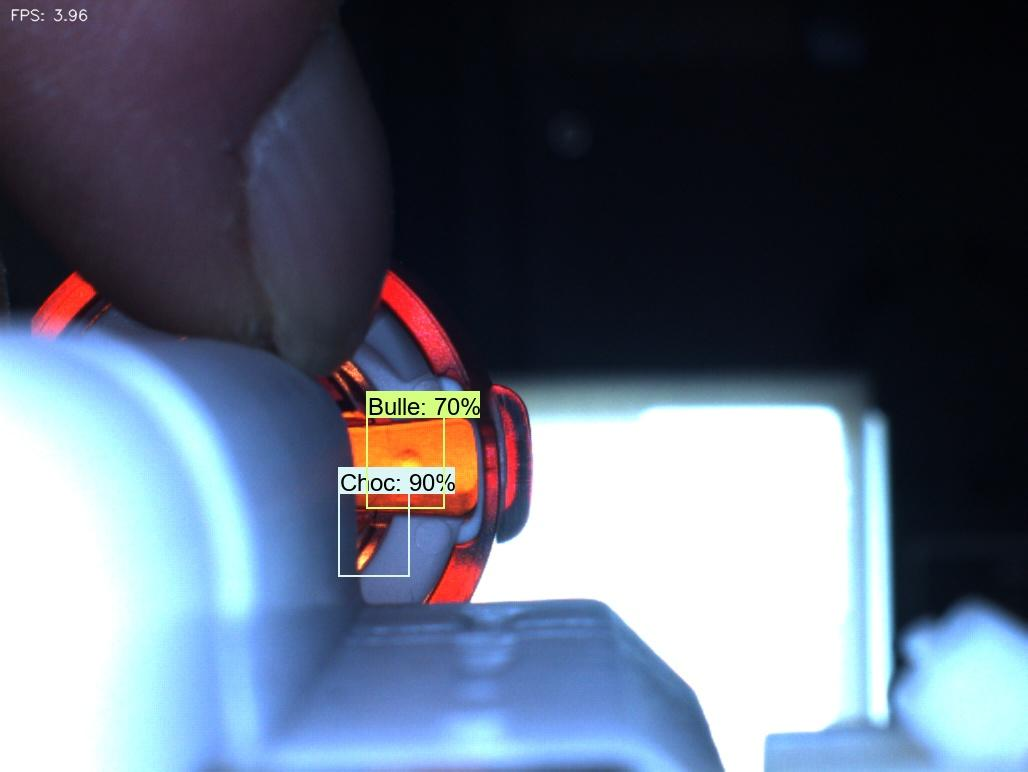Retassure: (375, 434, 442, 497)
